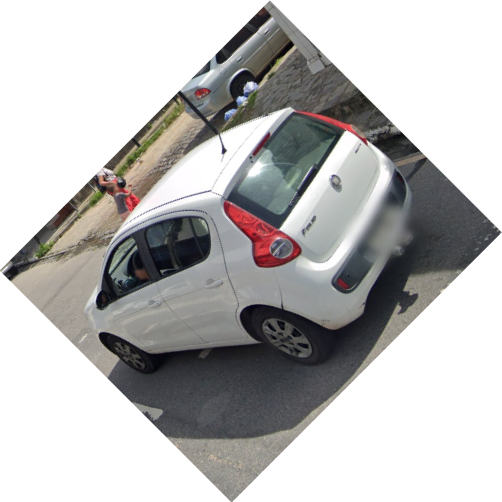car: (84, 107, 413, 369)
